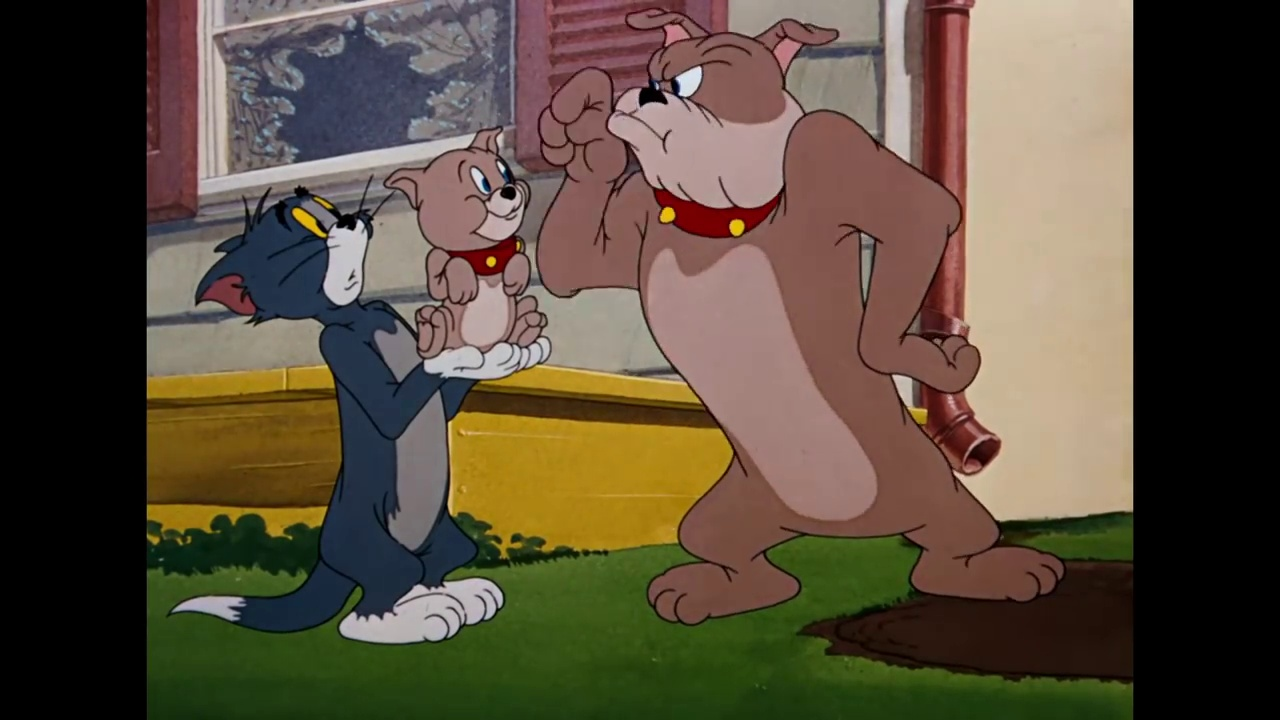spike: (608, 7, 848, 250)
tom: (194, 179, 382, 326)
